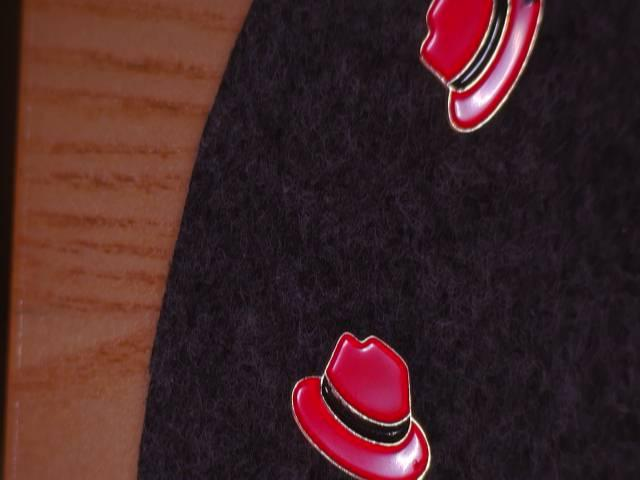Red-Hat: (277, 319, 447, 480), (408, 0, 553, 143)
